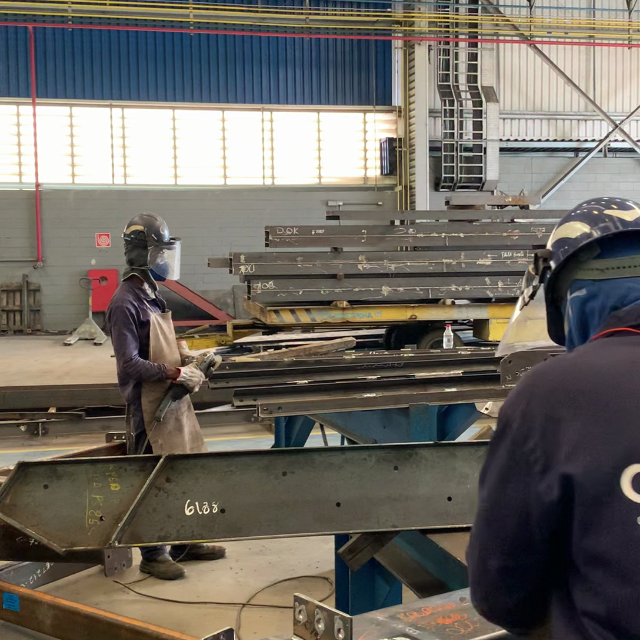face-shield: (144, 238, 182, 282)
glove: (175, 361, 206, 396)
helmet: (122, 212, 172, 244)
person: (104, 210, 229, 442)
safety-shoe: (138, 548, 188, 580), (169, 545, 228, 565)
